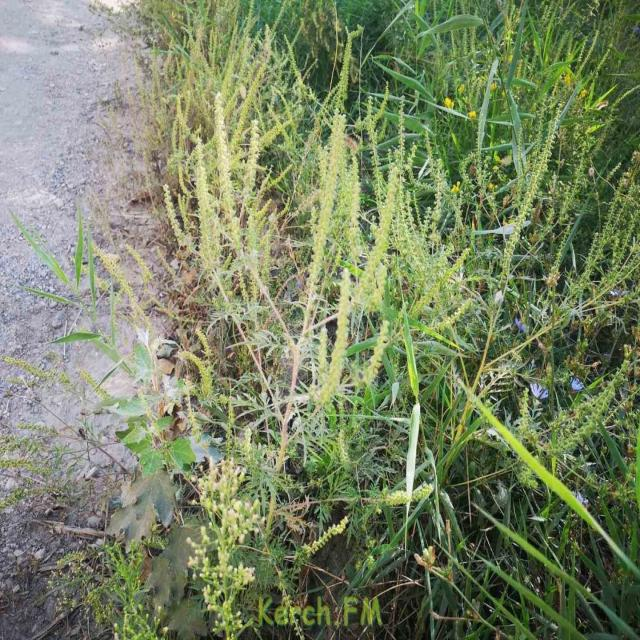ambrosia: (295, 73, 454, 436), (494, 87, 640, 320), (183, 416, 331, 640), (170, 101, 284, 294)
